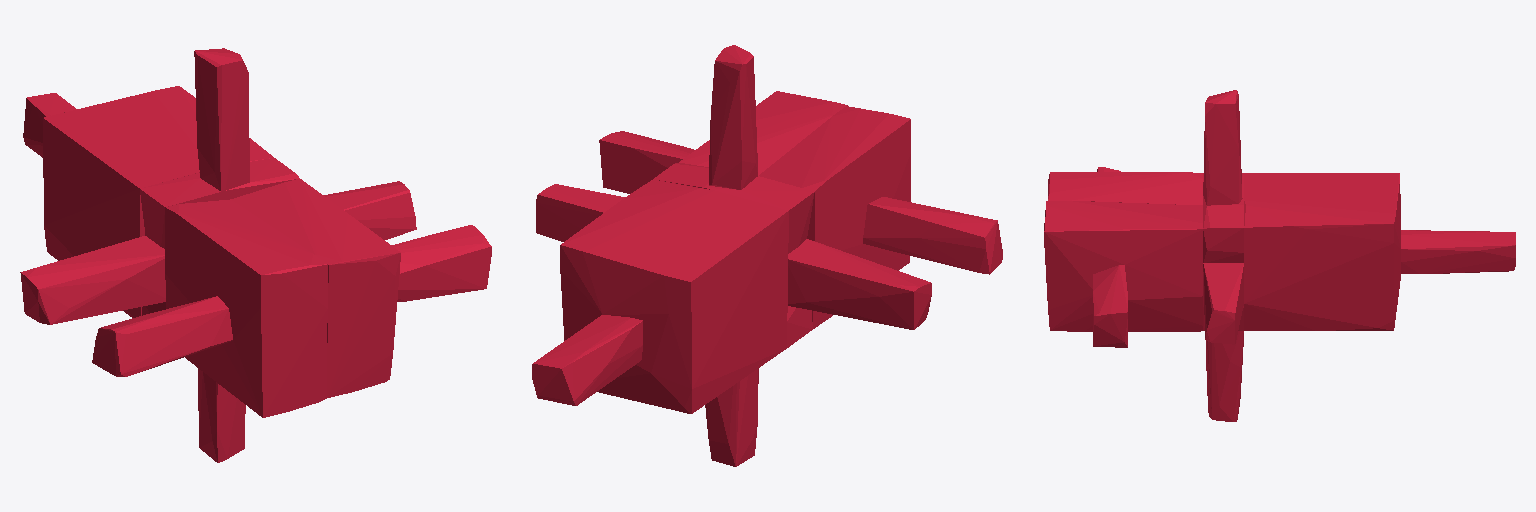
The robot description file, URDF, robot "blob379":
<robot name="blob379">
  <link name="random_obj_379">
    <contact>
      <lateral_friction value="1.0"/>
      <rolling_friction value="0.0"/>
      <inertia_scaling value="3.0"/>
      <contact_cfm value="0.0"/>
      <contact_erp value="1.0"/>
    </contact>
    <inertial>
      <origin rpy="0 0 0" xyz="0 0 0"/>
      <mass value="0.1"/>
      <inertia ixx="1" ixy="0" ixz="0" iyy="1" iyz="0" izz="0"/>
    </inertial>
    <visual>
      <origin rpy="0 0 0" xyz="0 0 0"/>
      <geometry>
        <mesh filename="379.obj" scale="0.015 0.015 0.015"/>
      </geometry>
      <material name="blockmat">
        <color rgba="0.84 0.18 0.30 1"/>
      </material>
    </visual>
    <collision>
      <origin rpy="0 0 0" xyz="0 0 0"/>
      <geometry>
        <mesh filename="379.obj" scale="0.015 0.015 0.015"/>
      </geometry>
    </collision>
  </link>
</robot>

--- Render facts (derived) ---
3 views of the same robot in one strip: view 1: azimuth 30°, elevation 25°; view 2: azimuth 150°, elevation 25°; view 3: azimuth 270°, elevation 25° (orthographic).
Model blob379 with 1 links and 0 joints (none), rooted at random_obj_379, posed all joints at 0.
Visible links, largest first — view 1: random_obj_379; view 2: random_obj_379; view 3: random_obj_379.
Boxes of the visible links, left/top/right/bottom form: random_obj_379: left=20, top=48, right=491, bottom=462; random_obj_379: left=532, top=45, right=1002, bottom=466; random_obj_379: left=1044, top=90, right=1515, bottom=421.
Bounding box of the posed robot: 0.0925 × 0.1227 × 0.0925 m (x, y, z).
1 mesh visuals loaded from 1 distinct referenced files (1 OBJ).